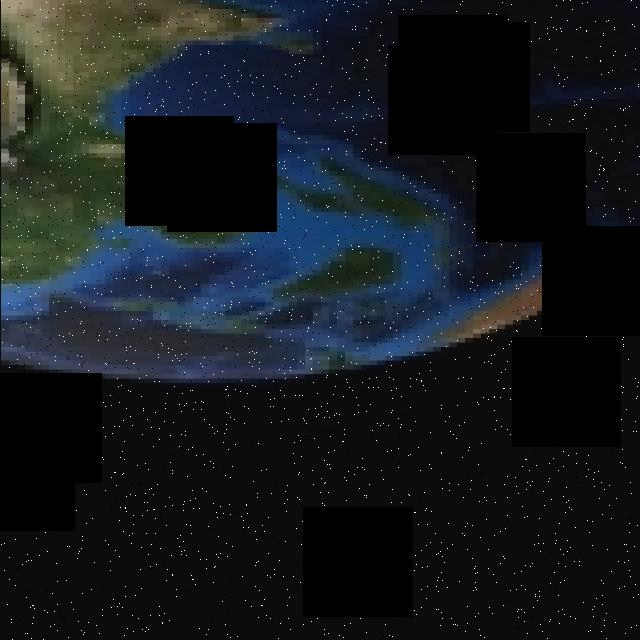Earth: (0, 1, 640, 378)
